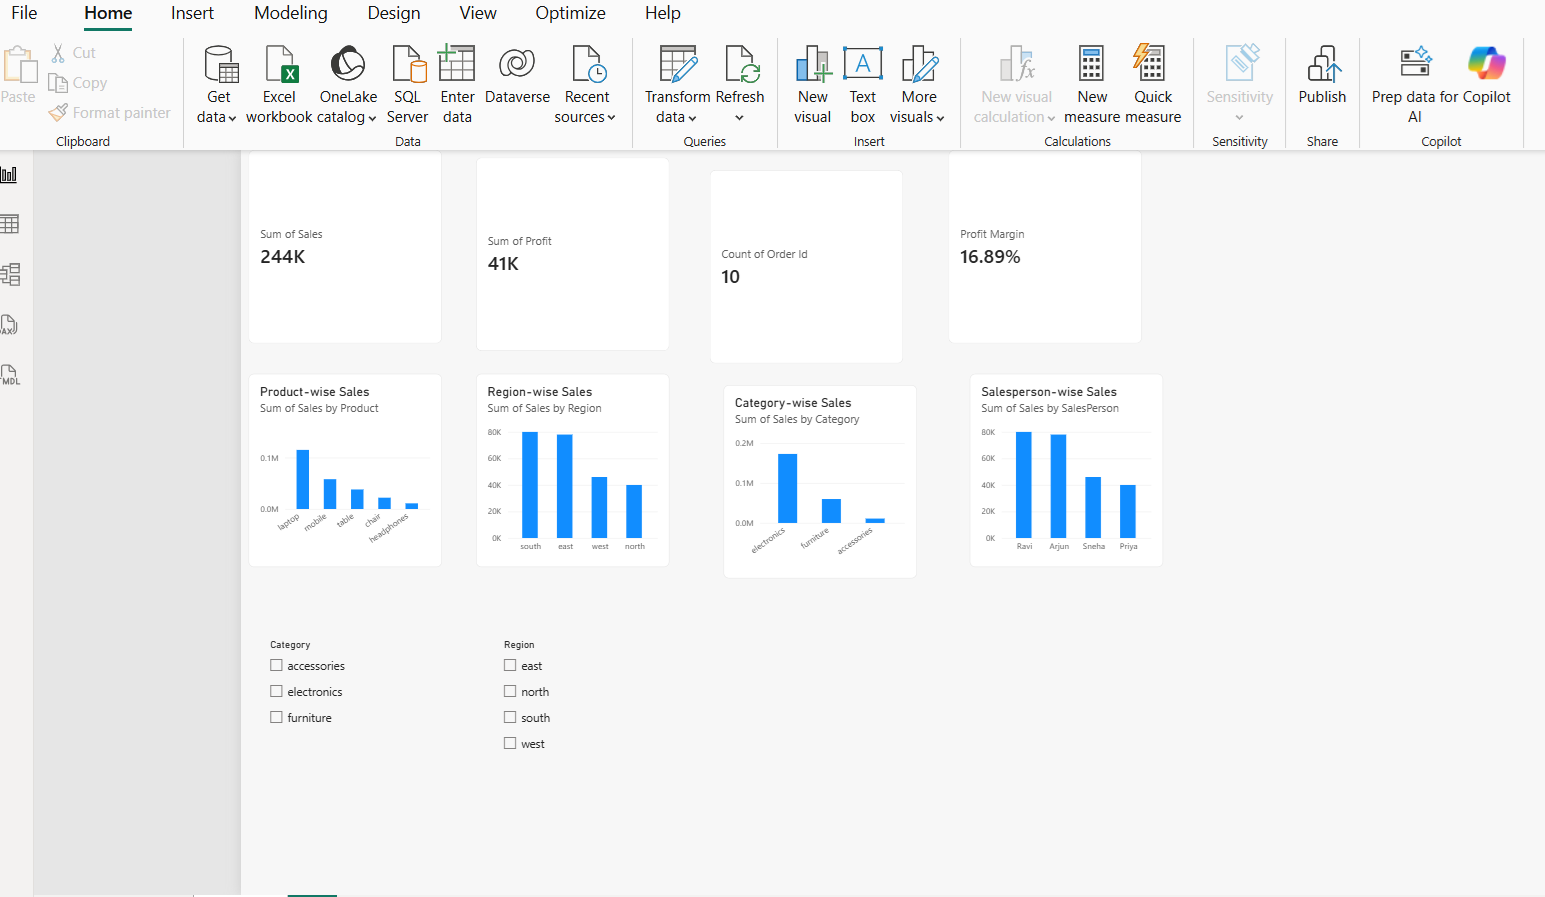

What the dashboard file says about the page in this screenshot:
{"tool":"powerbi","page":{"name":"Page 1","canvas":[1920,1080],"ordinal":0},"visuals":[{"type":"cardVisual","fields":{"Data":["Sum(SalesData1.Sales)"]},"box":[10,0,280,280],"z":0},{"type":"cardVisual","fields":{"Data":["Sum(SalesData1.Profit)"]},"box":[339.6,10.3,280,280],"z":1},{"type":"cardVisual","fields":{"Data":["CountNonNull(SalesData1.Order Id)"]},"box":[679.2,28.8,280,280],"z":2},{"type":"cardVisual","fields":{"Data":["SalesData1.Profit Margin"]},"box":[1025,0,280,280],"z":4},{"type":"clusteredColumnChart","title":"Product-wise Sales","fields":{"Category":["SalesData1.Product"],"Y":["Sum(SalesData1.Sales)"]},"box":[10.3,323.2,280,280],"z":5},{"type":"clusteredColumnChart","title":"Region-wise Sales","fields":{"Category":["SalesData1.Region"],"Y":["Sum(SalesData1.Sales)"]},"box":[339.6,323.2,280,280],"z":6},{"type":"clusteredColumnChart","title":"Category-wise Sales","fields":{"Category":["SalesData1.Category"],"Y":["Sum(SalesData1.Sales)"]},"box":[697.8,339.6,279.9,279.9],"z":7},{"type":"clusteredColumnChart","title":"Salesperson-wise Sales","fields":{"Category":["SalesData1.SalesPerson"],"Y":["Sum(SalesData1.Sales)"]},"box":[1055.9,323.2,280,280],"z":8},{"type":"slicer","fields":{"Values":["SalesData1.Region"]},"box":[372.8,707.6,278.7,271.4],"z":9},{"type":"slicer","fields":{"Values":["SalesData1.Category"]},"box":[34.4,707.6,231.6,271.4],"z":10}]}

Visuals, with their boxes on the page's 1920x1080 design canvas (x1, y1, x2, y2). These are canvas units, not pixel positions in the 1545x897 screenshot, which may show the page scaled, cropped or inside an application window:
cardVisual - Sum(SalesData1.Sales): 10:0:290:280
cardVisual - Sum(SalesData1.Profit): 340:10:620:290
cardVisual - CountNonNull(SalesData1.Order Id): 679:29:959:309
cardVisual - SalesData1.Profit Margin: 1025:0:1305:280
"Product-wise Sales" clusteredColumnChart: 10:323:290:603
"Region-wise Sales" clusteredColumnChart: 340:323:620:603
"Category-wise Sales" clusteredColumnChart: 698:340:978:620
"Salesperson-wise Sales" clusteredColumnChart: 1056:323:1336:603
slicer - SalesData1.Region: 373:708:652:979
slicer - SalesData1.Category: 34:708:266:979
